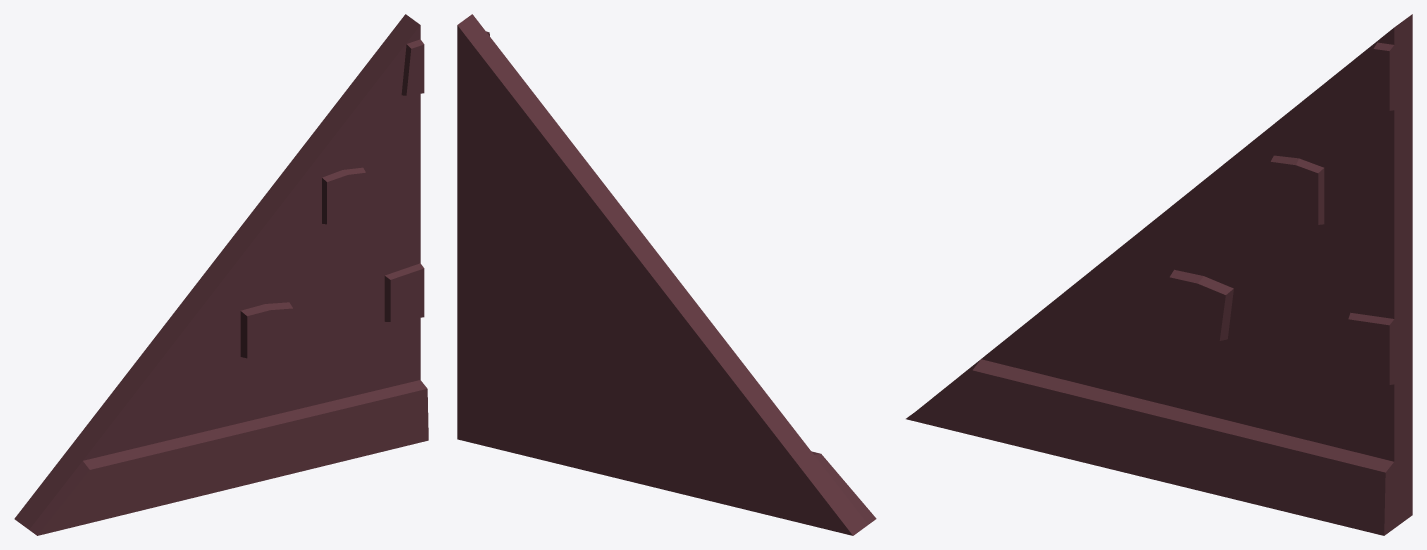
File: empire-stone-wall-verical-l-3x3-moss-empire.glb
The picture shows the model from 3 angles, left to right: view 1: azimuth 30°, elevation 25°; view 2: azimuth 150°, elevation 25°; view 3: azimuth 330°, elevation 25°; orthographic projection. The views are drawn at different scales.
Parts seen in each view (by area): view 1: SM_Stone_Wall_Verical_L_3x3_Moss_Empire; view 2: SM_Stone_Wall_Verical_L_3x3_Moss_Empire; view 3: SM_Stone_Wall_Verical_L_3x3_Moss_Empire.
Boxes of the visible parts, x1,y1,x2,y2 form: SM_Stone_Wall_Verical_L_3x3_Moss_Empire: (14,14,428,535); SM_Stone_Wall_Verical_L_3x3_Moss_Empire: (457,14,876,535); SM_Stone_Wall_Verical_L_3x3_Moss_Empire: (906,14,1412,535).
Bounding box in the file's own units: 3 × 3 × 0.3082.
